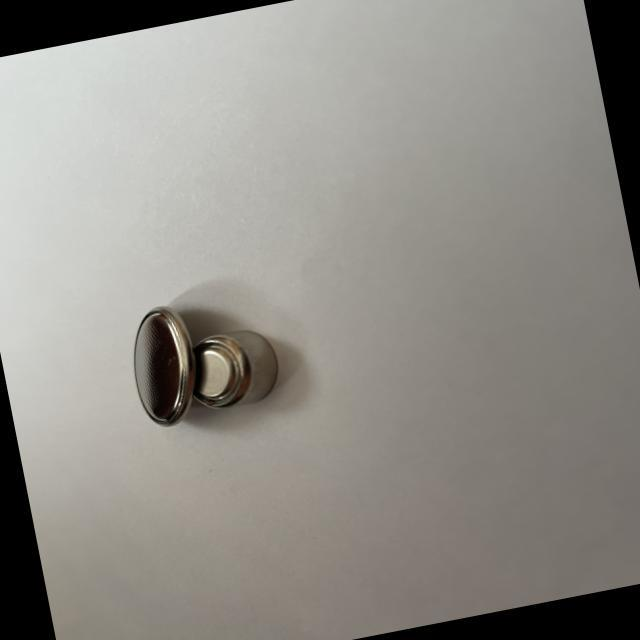COIN: (181, 320, 284, 414)
